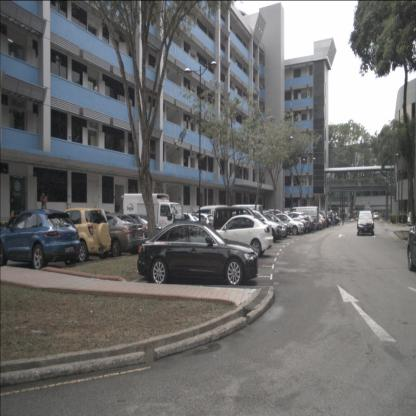human-pedestrian-adult: (10, 190, 16, 223), (40, 192, 48, 214), (41, 192, 46, 214), (341, 211, 344, 226), (382, 211, 384, 221), (348, 211, 350, 220)
vehicle-car: (136, 221, 258, 288), (0, 208, 81, 271), (47, 207, 111, 264), (81, 211, 143, 259), (208, 214, 274, 258), (213, 206, 271, 250), (110, 214, 162, 249), (234, 210, 282, 243), (285, 206, 320, 232), (254, 213, 290, 238), (268, 213, 305, 236), (182, 212, 216, 237), (280, 212, 309, 233), (281, 212, 309, 233), (289, 213, 314, 232), (357, 210, 374, 236), (407, 222, 416, 271), (292, 214, 314, 234), (305, 210, 327, 228), (301, 214, 323, 229), (307, 213, 326, 227), (407, 211, 416, 227), (373, 212, 379, 221)
vehicle-motorcycle: (326, 210, 338, 226)
vehicle-truck: (121, 192, 185, 245), (285, 206, 319, 232)
